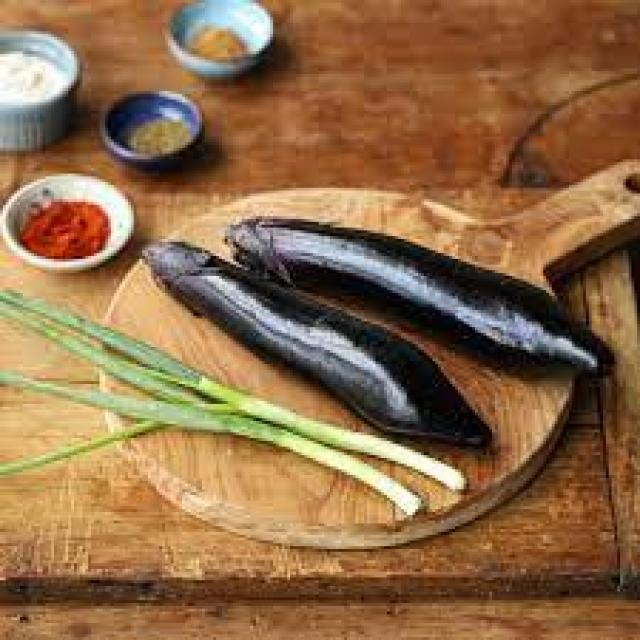eggplant: (145, 242, 492, 448), (228, 219, 609, 371)
